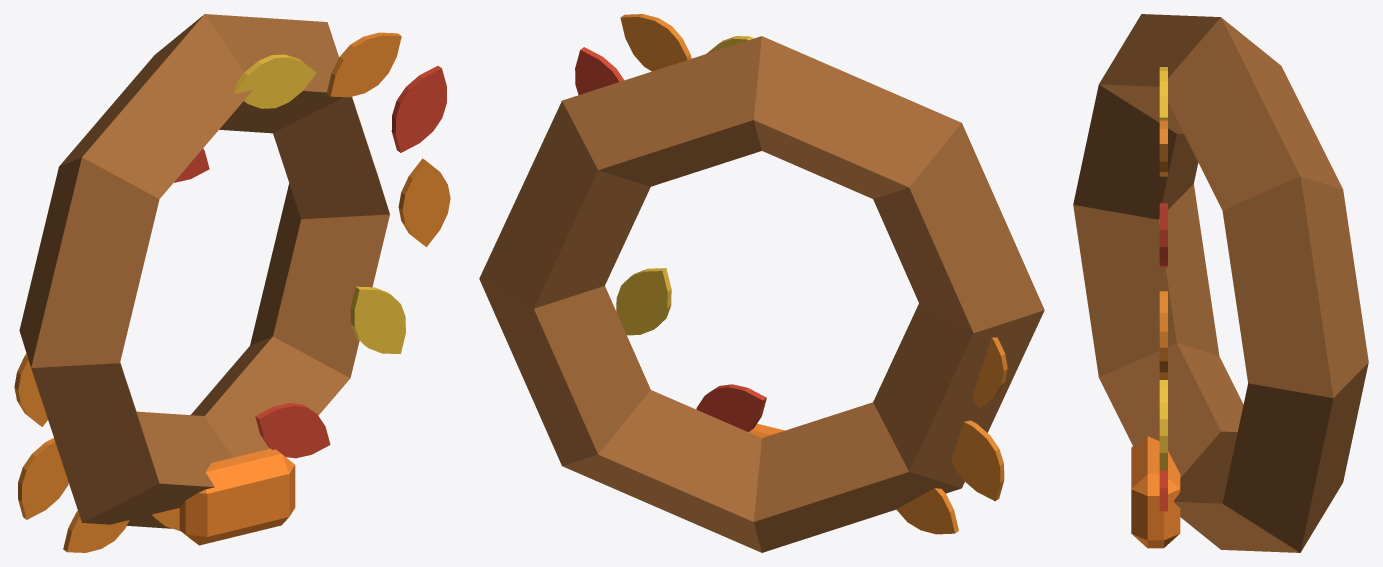
The model's file is HarvestWreath.fbx.
3 views of the same model, side by side, from view 1: azimuth 30°, elevation 25°; view 2: azimuth 150°, elevation 25°; view 3: azimuth 270°, elevation 25° (orthographic). The views are drawn at different scales.
Parts seen in each view (by area): view 1: HarvestWreath; view 2: HarvestWreath; view 3: HarvestWreath.
Boxes of the visible parts, x1=… form: HarvestWreath: x1=14, y1=14, x2=450, y2=552; HarvestWreath: x1=479, y1=14, x2=1044, y2=552; HarvestWreath: x1=1073, y1=14, x2=1368, y2=552.
Size of the model in its own units: 3.33 by 3.6 by 1.81.
Materials: 1 (1 with a texture image).
